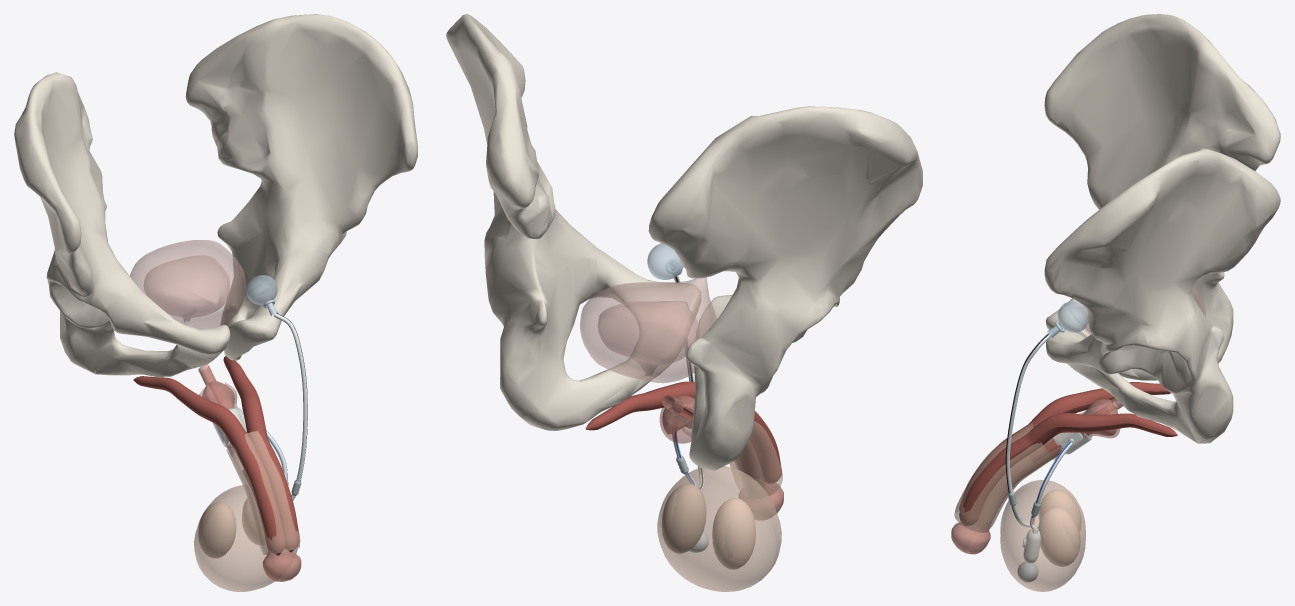
Rendered from aus-33-overview.glb.
3 views of the same model, side by side, from view 1: azimuth 30°, elevation 25°; view 2: azimuth 150°, elevation 25°; view 3: azimuth 270°, elevation 25° (orthographic). The views are drawn at different scales.
Parts seen in each view (by area): view 1: Pubis_L, Pubis_R, Bladder, Scrotum_shell, Crus_R, Penile_skin, Crus_L, Corpus_spongiosum, Testis_R, Tubing_balloon, Balloon_shell; view 2: Pubis_R, Pubis_L, Scrotum_shell, Bladder, Corpus_spongiosum, Penile_skin, Testis_R, Testis_L, Crus_L, Crus_R, Balloon_shell, Bulbospongiosus; view 3: Pubis_L, Pubis_R, Scrotum_shell, Crus_L, Penile_skin, Corpus_spongiosum, Crus_R, Testis_L, Tubing_balloon, Testis_R, Balloon_shell, Bulbospongiosus (+1 smaller).
Boxes of the visible parts, <box> form: Pubis_L: <box>185,14,417,360</box>; Pubis_R: <box>14,72,230,377</box>; Bladder: <box>130,240,245,328</box>; Scrotum_shell: <box>194,485,298,591</box>; Crus_R: <box>133,376,285,555</box>; Penile_skin: <box>226,431,300,554</box>; Crus_L: <box>223,356,299,552</box>; Corpus_spongiosum: <box>198,364,301,581</box>; Testis_R: <box>198,502,236,558</box>; Tubing_balloon: <box>274,313,307,500</box>; Balloon_shell: <box>246,275,277,304</box>; Pubis_R: <box>648,106,922,470</box>; Pubis_L: <box>446,14,701,430</box>; Scrotum_shell: <box>657,466,781,591</box>; Bladder: <box>580,277,716,383</box>; Corpus_spongiosum: <box>662,395,783,520</box>; Penile_skin: <box>729,421,782,498</box>; Testis_R: <box>712,498,755,569</box>; Testis_L: <box>661,483,706,553</box>; Crus_L: <box>585,381,695,430</box>; Crus_R: <box>749,411,781,483</box>; Balloon_shell: <box>647,243,683,279</box>; Bulbospongiosus: <box>659,398,693,443</box>; Pubis_L: <box>1044,148,1280,443</box>; Pubis_R: <box>1044,14,1280,380</box>; Scrotum_shell: <box>1000,480,1085,591</box>; Crus_L: <box>959,413,1177,526</box>; Penile_skin: <box>954,422,1056,532</box>; Corpus_spongiosum: <box>951,398,1122,554</box>; Crus_R: <box>959,382,1171,510</box>; Testis_L: <box>1038,507,1080,566</box>; Tubing_balloon: <box>1005,333,1050,527</box>; Testis_R: <box>1038,489,1081,531</box>; Balloon_shell: <box>1058,301,1087,332</box>; Bulbospongiosus: <box>1044,398,1120,459</box>.
Size of what is drawn, in the model's own units: 0.2698 by 0.332 by 0.1992.
